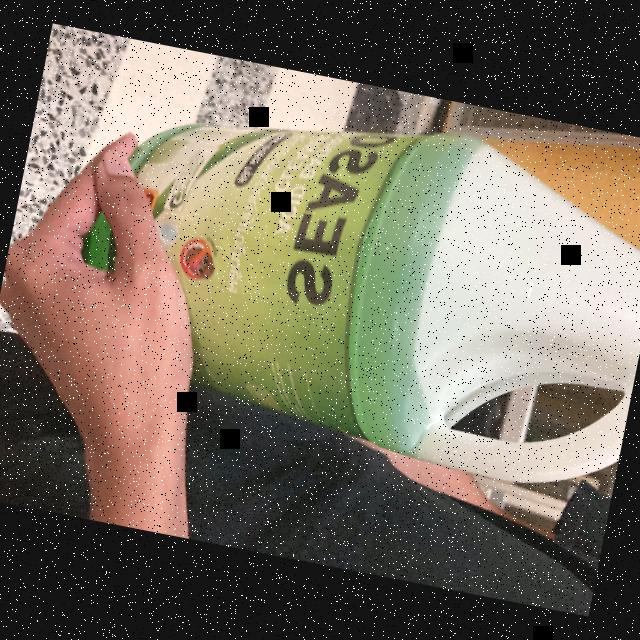chemical_plastic_gallon: (44, 67, 640, 505)
